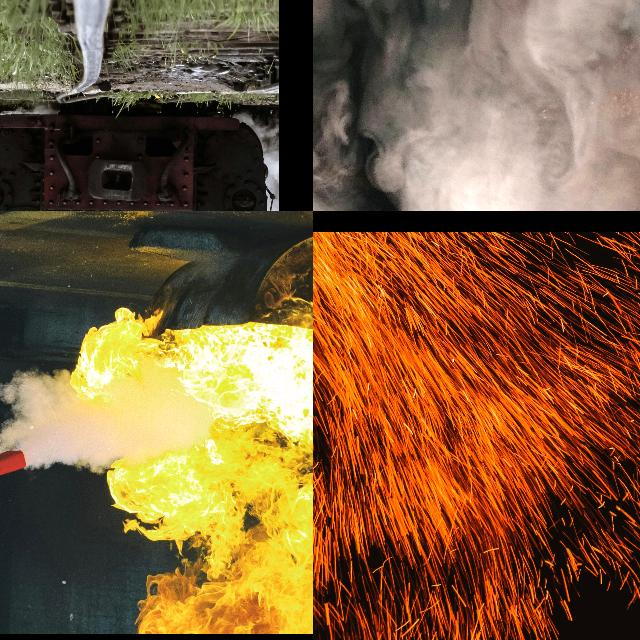fire: (313, 231, 640, 640), (313, 231, 640, 544), (200, 324, 313, 635)
smoke: (313, 0, 640, 211), (0, 374, 125, 474)
